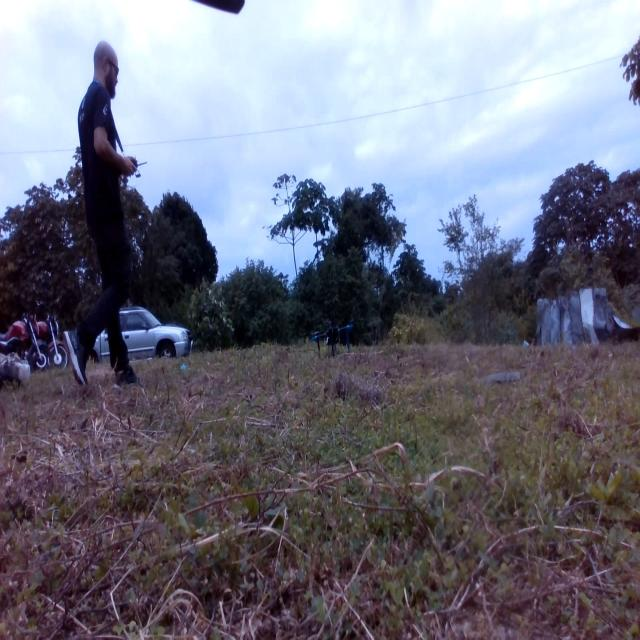-uav-: (310, 312, 358, 372)
